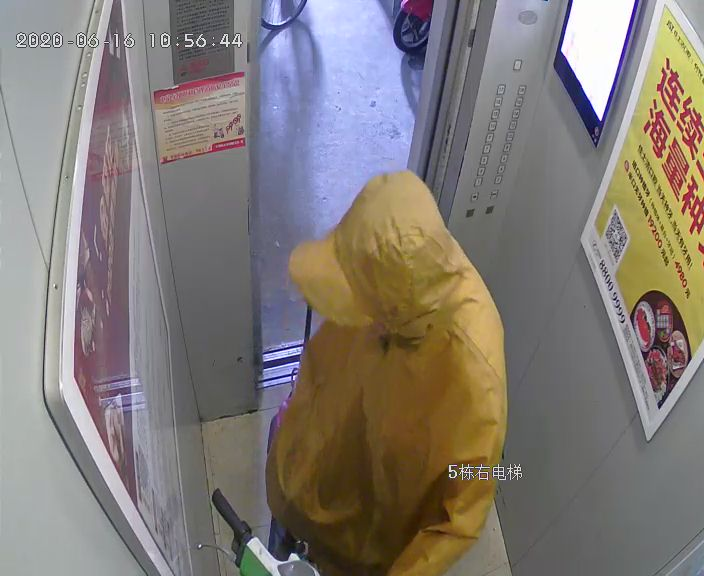Electric-bicycle: (198, 486, 339, 574)
